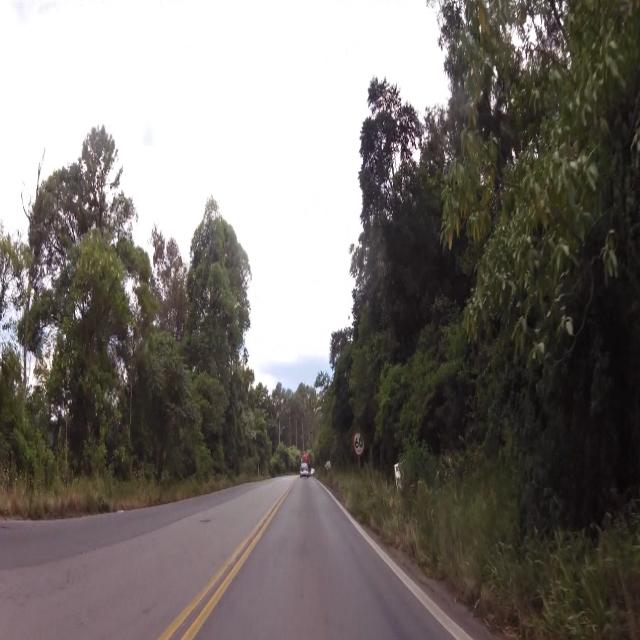R-19: (353, 431, 364, 457)
